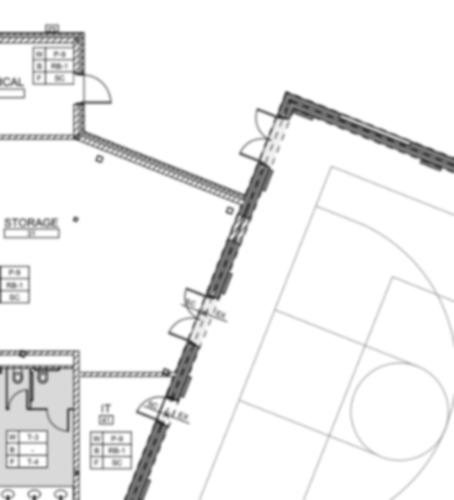door: (80, 73, 115, 106), (134, 394, 168, 423), (45, 406, 71, 433), (7, 388, 29, 412)
double door: (237, 106, 279, 168), (167, 286, 207, 343)
wall: (73, 136, 245, 208), (70, 348, 84, 500), (68, 370, 177, 379), (1, 35, 81, 45), (1, 348, 83, 357), (1, 132, 74, 141), (1, 363, 73, 372), (71, 36, 84, 79), (71, 101, 81, 142)
window: (337, 103, 415, 160)
